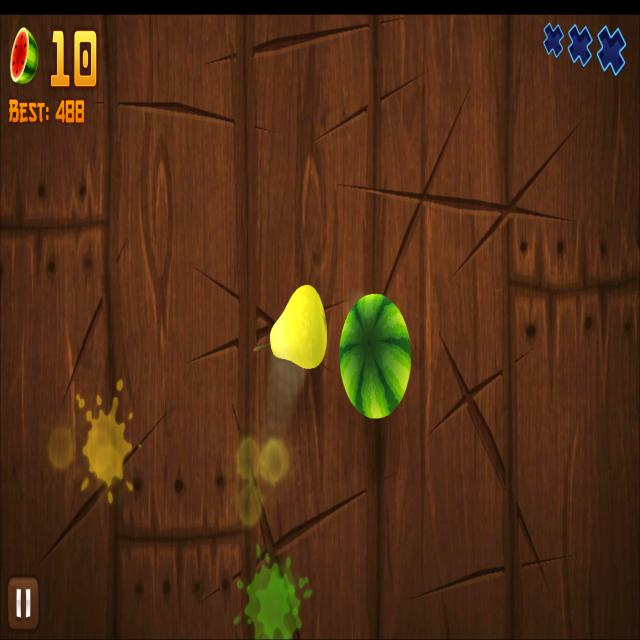fruit: (338, 294, 412, 421), (269, 284, 328, 370)
